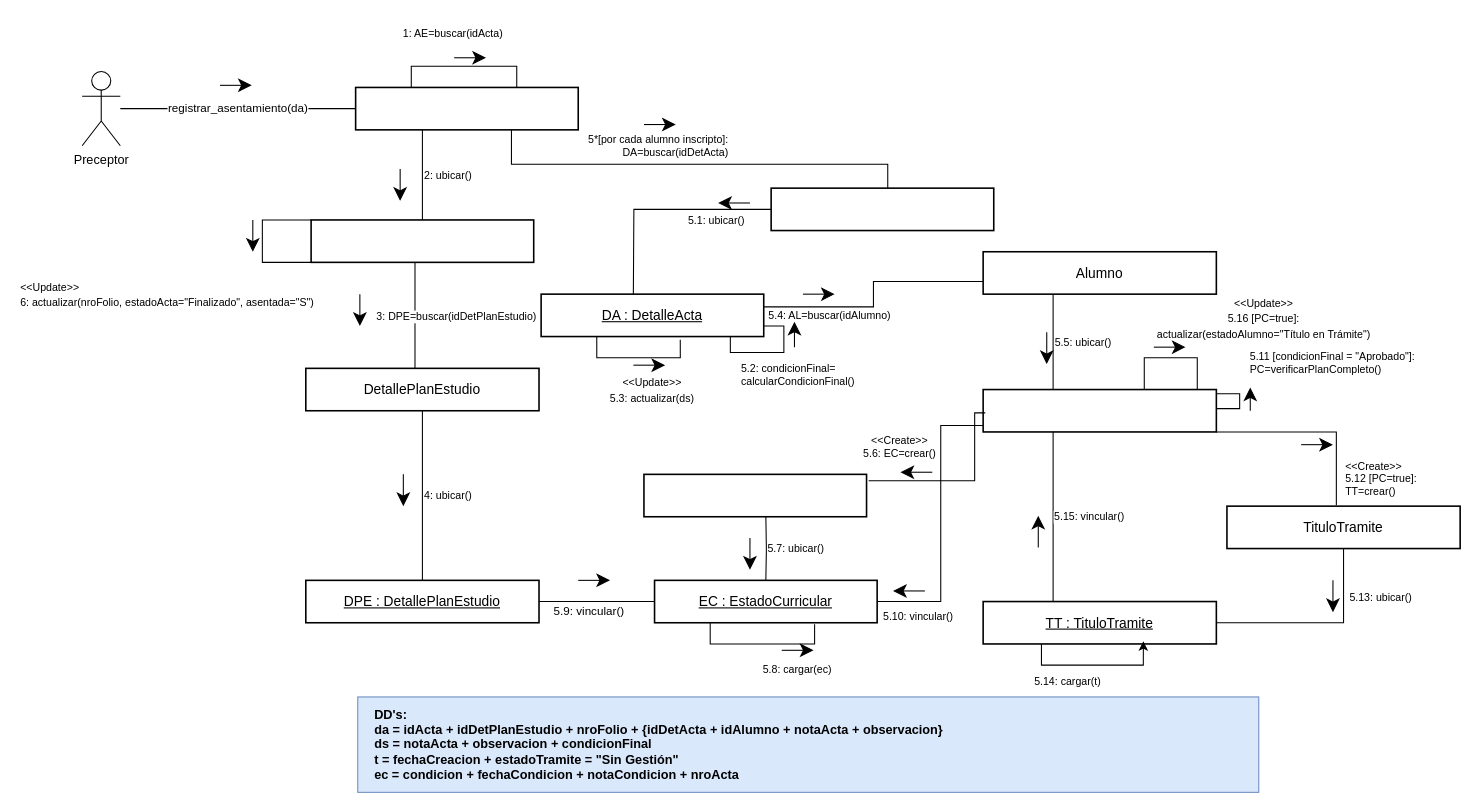
Image size: 1479x811. Some labels were removed from this diagram. The shapes that lost their labels are listed below. From the top down, each one's box as (x1, y1, x2, y2) in pixels, then its label:
(354, 86, 579, 130): ActaExamen
(770, 187, 994, 231): DetalleActa
(310, 219, 534, 263): AE : ActaExamen
(982, 388, 1217, 432): AL : Alumno
(643, 473, 867, 517): EstadoCurricular
